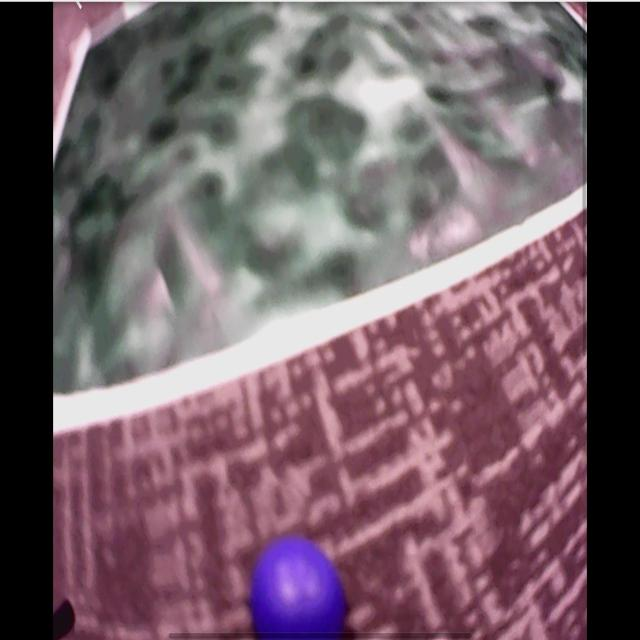ball: (256, 545, 345, 640)
